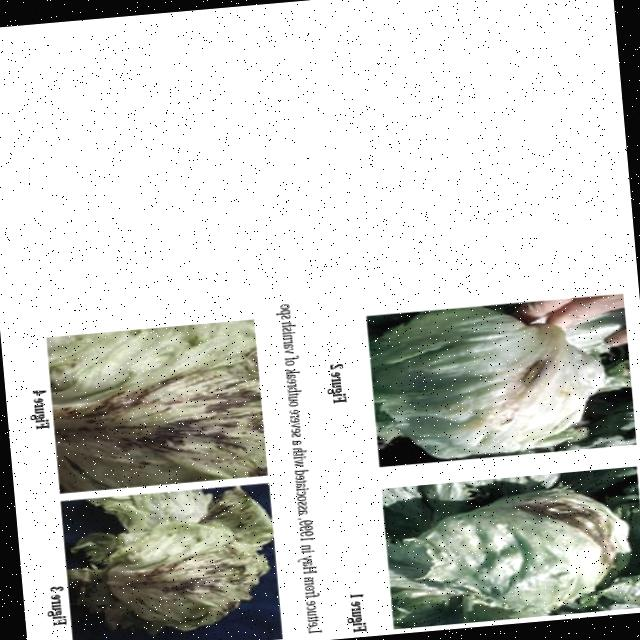Bacterial: (388, 470, 640, 624), (376, 320, 611, 462), (56, 345, 262, 480), (90, 528, 248, 626)
